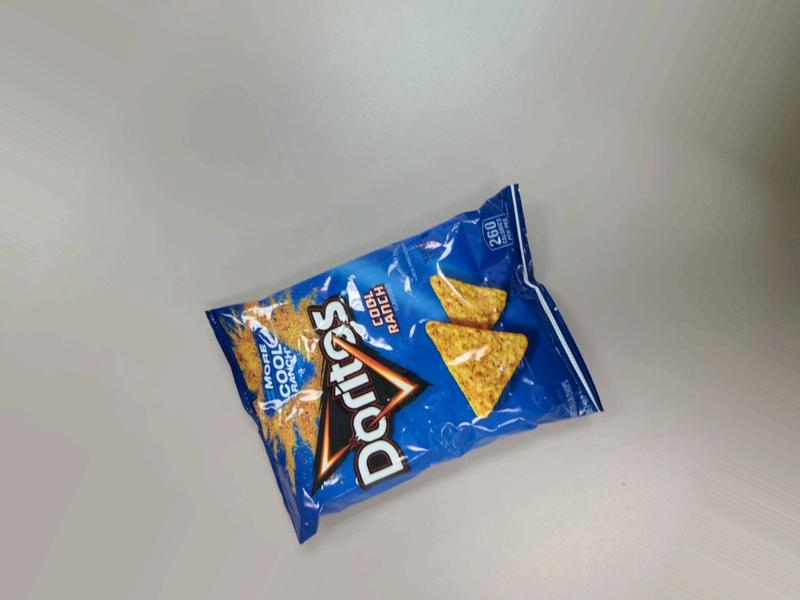doritos: (180, 180, 628, 555)
